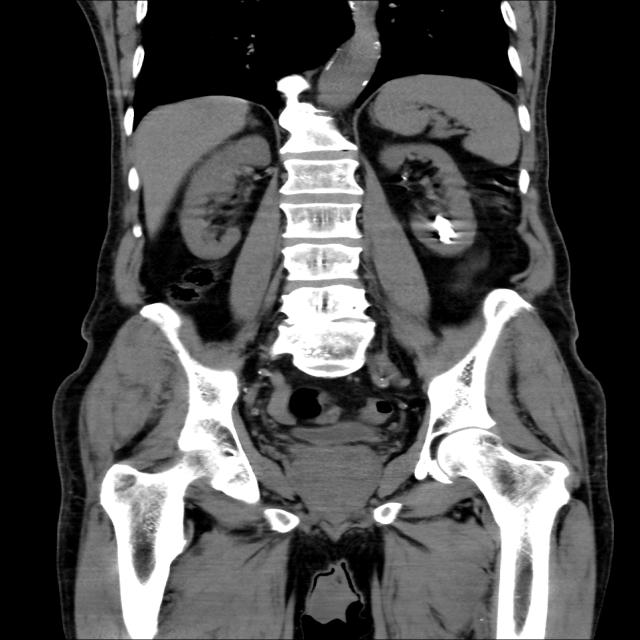kidneystone: (433, 215, 456, 244), (401, 175, 403, 178)
